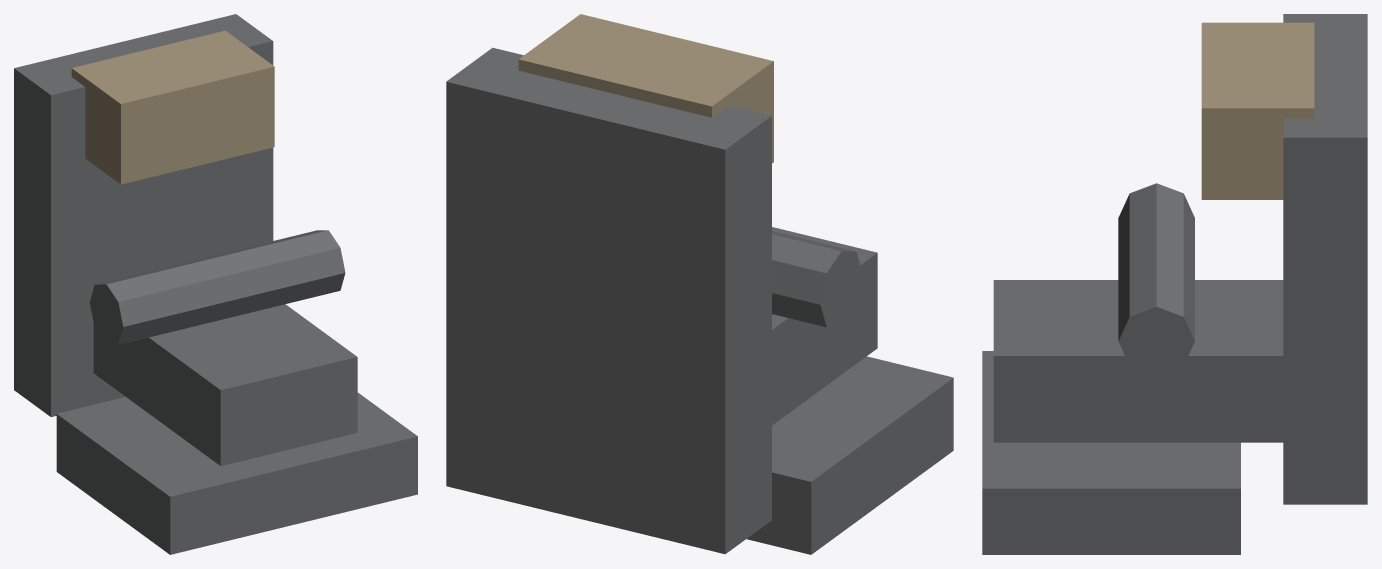
The model's file is bracket.glb.
The picture shows the model from 3 angles, left to right: view 1: azimuth 30°, elevation 25°; view 2: azimuth 150°, elevation 25°; view 3: azimuth 270°, elevation 25°; orthographic projection. The views are drawn at different scales.
Parts seen in each view (by area): view 1: bracket_000, bracket_002, bracket_001, bracket_003, bracket_004, bracket_005; view 2: bracket_000, bracket_002, bracket_003, bracket_001, bracket_004; view 3: bracket_001, bracket_000, bracket_002, bracket_003, bracket_005, bracket_004.
Boxes of the visible parts, left/top/right/bottom form: bracket_000: left=14, top=14, right=273, bottom=416; bracket_002: left=56, top=392, right=417, bottom=554; bracket_001: left=93, top=304, right=357, bottom=465; bracket_003: left=71, top=30, right=274, bottom=184; bracket_004: left=89, top=253, right=251, bottom=345; bracket_005: left=189, top=230, right=345, bottom=321; bracket_000: left=446, top=47, right=771, bottom=554; bracket_002: left=746, top=356, right=953, bottom=554; bracket_003: left=518, top=14, right=773, bottom=163; bracket_001: left=772, top=227, right=877, bottom=425; bracket_004: left=772, top=231, right=862, bottom=327; bracket_001: left=993, top=280, right=1283, bottom=442; bracket_000: left=1283, top=14, right=1367, bottom=504; bracket_002: left=982, top=351, right=1240, bottom=554; bracket_003: left=1201, top=22, right=1314, bottom=199; bracket_005: left=1118, top=237, right=1194, bottom=375; bracket_004: left=1118, top=183, right=1194, bottom=273.
Size of the model in its own units: 0.29 by 0.4125 by 0.3425.
